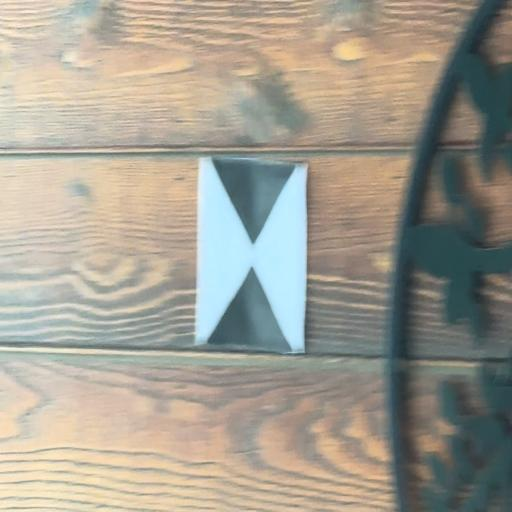target: (199, 156, 307, 354)
